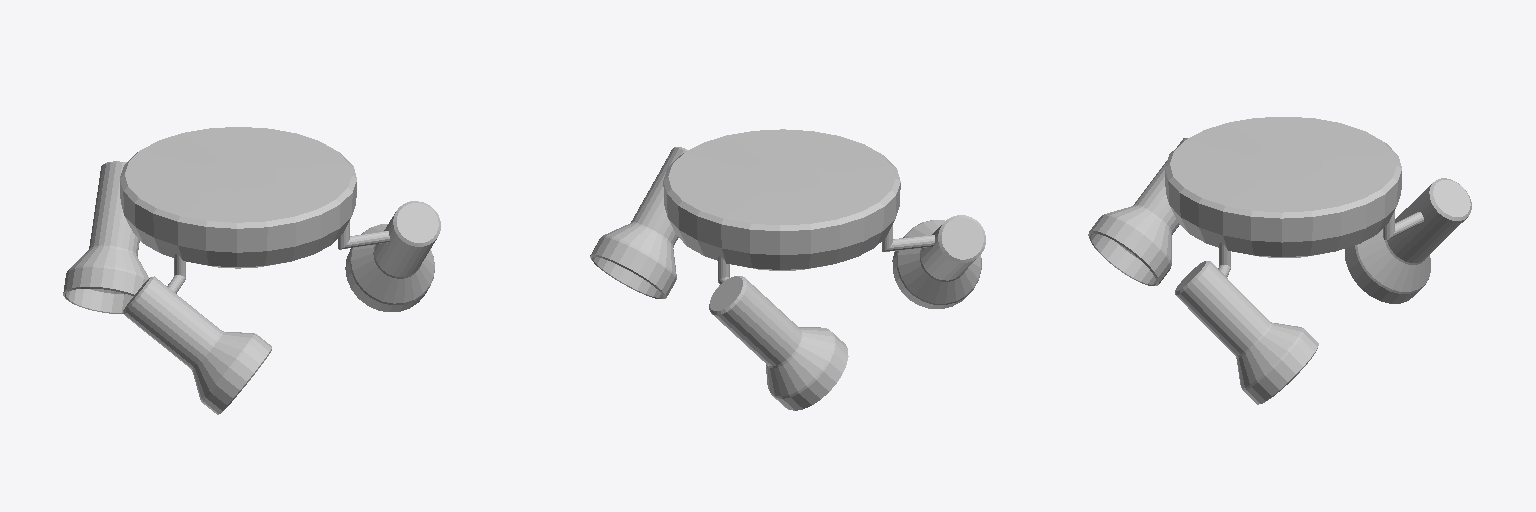
The model's file is ceiling_lamp1.obj.
The picture shows the model from 3 angles: view 1: azimuth 30°, elevation 25°; view 2: azimuth 150°, elevation 25°; view 3: azimuth 270°, elevation 25°; orthographic projection.
Visible parts, largest first — view 1: Circle.032; view 2: Circle.032; view 3: Circle.032.
Part boxes in pixels (x1,y1,x2,y2): Circle.032: (63, 127, 440, 414); Circle.032: (590, 129, 985, 410); Circle.032: (1088, 117, 1471, 404).
Size of the model in its own units: 0.3216 by 0.1498 by 0.3086.